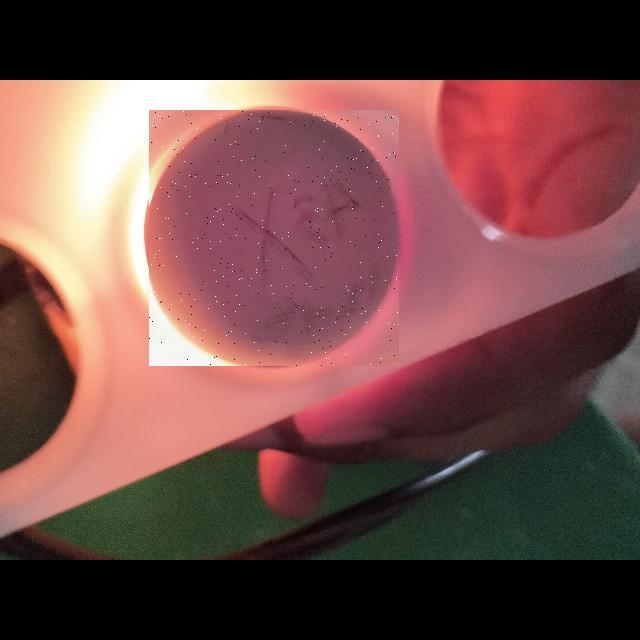Fertile: (149, 110, 399, 366)
